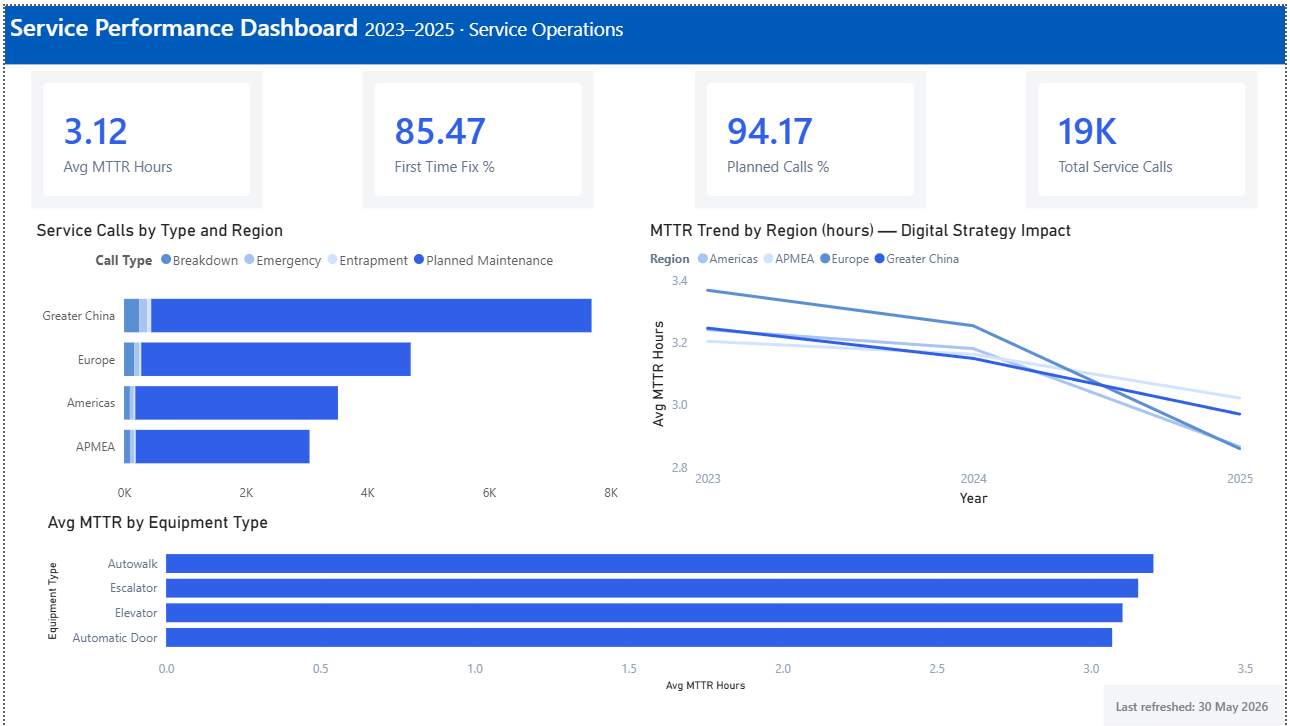

What the dashboard file says about the page in this screenshot:
{"tool":"powerbi","page":{"name":"Service Operations","canvas":[1280,720],"ordinal":2},"visuals":[{"type":"textbox","box":[0,0,1280,58.6],"z":0},{"type":"cardVisual","fields":{"Data":["_Measures.Avg MTTR Hours"]},"box":[25.7,60,231.4,147.1],"z":1000},{"type":"cardVisual","fields":{"Data":["_Measures.First Time Fix %"]},"box":[357.6,60,231.4,147.1],"z":2000},{"type":"cardVisual","fields":{"Data":["_Measures.Planned Calls %"]},"box":[689.5,60,231.4,147.1],"z":3000},{"type":"cardVisual","fields":{"Data":["_Measures.Total Service Calls"]},"box":[1021.4,60,231.4,147.1],"z":4000},{"type":"barChart","title":"Service Calls by Type and Region","fields":{"Category":["service_calls.region"],"Y":["_Measures.Total Service Calls"],"Series":["service_calls.call_type"]},"box":[25.7,214.3,591.4,291.4],"z":5000},{"type":"lineChart","title":"MTTR Trend by Region (hours) — Digital Strategy Impact","fields":{"Y":["Avg(monthly_kpis.avg_mttr_hours)"],"Series":["monthly_kpis.region"],"Category":["monthly_kpis.month_date.Variation.Date Hierarchy.Year"]},"box":[640,214.3,612.9,291.4],"z":6000},{"type":"clusteredBarChart","title":"Avg MTTR by Equipment Type","fields":{"Category":["equipment.equipment_type"],"Y":["_Measures.Avg MTTR Hours"]},"box":[37.1,505.7,1215.7,184.3],"z":7000},{"type":"cardVisual","fields":{"Data":["New Measure.Last Refreshed"]},"box":[1098.3,678.3,181.7,41.7],"z":7001}]}

Visuals, with their boxes in screenshot pixels (x1, y1, x2, y2), scaled from the page's 1280x720 canvas onto the 1290x726 screenshot:
textbox: {"left": 0, "top": 0, "right": 1289, "bottom": 59}
cardVisual - _Measures.Avg MTTR Hours: {"left": 26, "top": 60, "right": 259, "bottom": 209}
cardVisual - _Measures.First Time Fix %: {"left": 360, "top": 60, "right": 594, "bottom": 209}
cardVisual - _Measures.Planned Calls %: {"left": 695, "top": 60, "right": 928, "bottom": 209}
cardVisual - _Measures.Total Service Calls: {"left": 1029, "top": 60, "right": 1263, "bottom": 209}
"Service Calls by Type and Region" barChart: {"left": 26, "top": 216, "right": 622, "bottom": 510}
"MTTR Trend by Region (hours) — Digital Strategy Impact" lineChart: {"left": 645, "top": 216, "right": 1263, "bottom": 510}
"Avg MTTR by Equipment Type" clusteredBarChart: {"left": 37, "top": 510, "right": 1263, "bottom": 696}
cardVisual - New Measure.Last Refreshed: {"left": 1107, "top": 684, "right": 1289, "bottom": 725}
